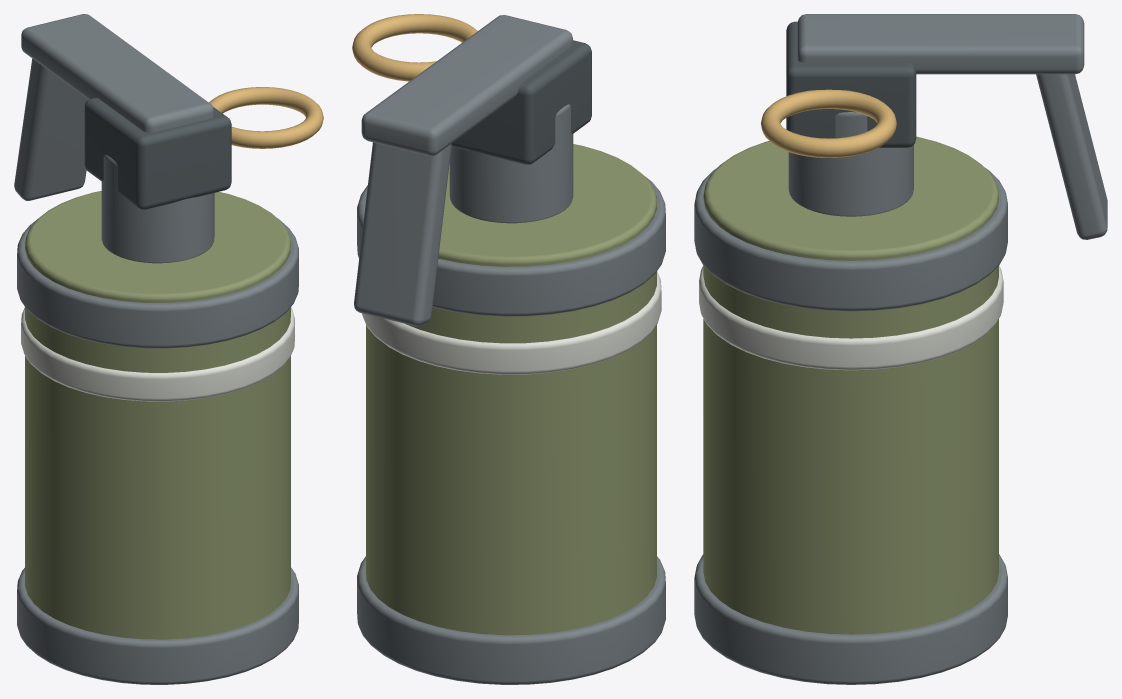
The model's file is smoke.glb.
The picture shows the model from 3 angles, left to right: view 1: azimuth 30°, elevation 25°; view 2: azimuth 150°, elevation 25°; view 3: azimuth 270°, elevation 25°; orthographic projection. The views are drawn at different scales.
Visible parts, largest first — view 1: Olive, Steel, Dark, White, Brass; view 2: Olive, Steel, White, Dark, Brass; view 3: Olive, Steel, White, Dark, Brass.
Part boxes in pixels (bbox=[...]): Olive: bbox=[25, 191, 290, 639]; Steel: bbox=[14, 14, 298, 684]; Dark: bbox=[84, 97, 231, 209]; White: bbox=[21, 307, 294, 401]; Brass: bbox=[209, 87, 323, 148]; Olive: bbox=[366, 144, 656, 635]; Steel: bbox=[354, 15, 665, 684]; White: bbox=[362, 271, 661, 374]; Dark: bbox=[451, 40, 591, 164]; Brass: bbox=[352, 14, 477, 81]; Olive: bbox=[703, 136, 998, 634]; Steel: bbox=[694, 14, 1107, 684]; White: bbox=[699, 265, 1003, 370]; Dark: bbox=[786, 21, 916, 147]; Brass: bbox=[760, 89, 896, 157].
Bounding box in the file's own units: 0.0772 × 0.1455 × 0.0922.
